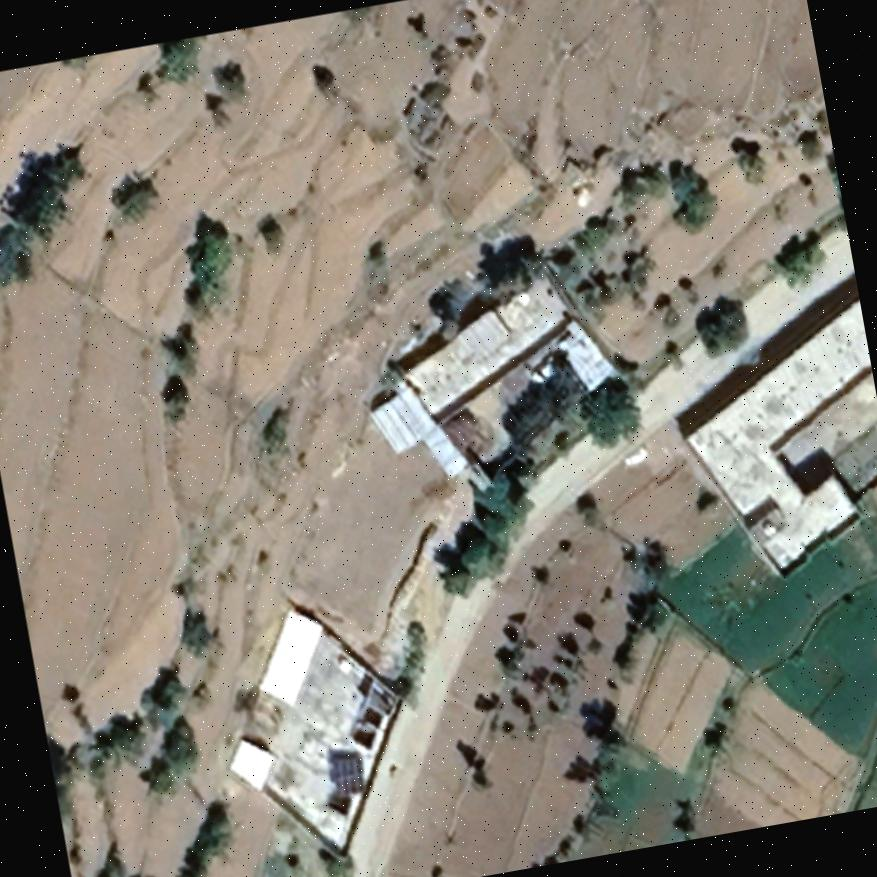Solarpanel: (322, 749, 368, 802)
